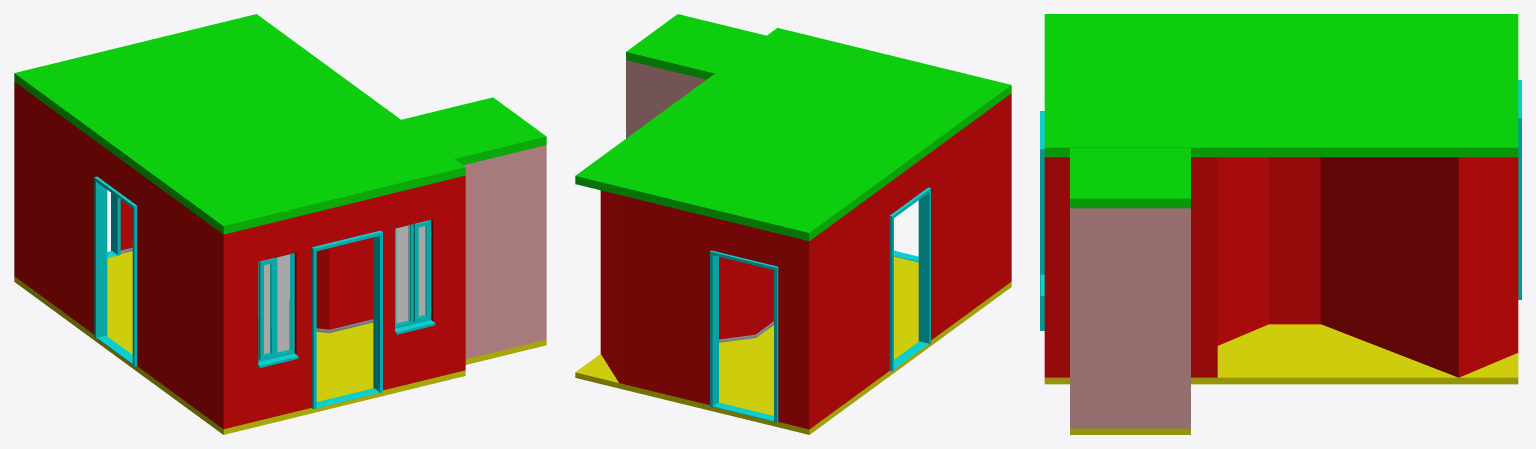
Rendered from FloorPlan515_physics.fbx.
The picture shows the model from 3 angles, left to right: view 1: azimuth 30°, elevation 25°; view 2: azimuth 150°, elevation 25°; view 3: azimuth 270°, elevation 25°; orthographic projection. The views are drawn at different scales.
Parts seen in each view (by area): view 1: FP515:Walls_1, FP515:Ceiling_1, FP515:Walls_2, FP515:Floor_1, FP515:Ceiling_2, FP515:DoorFrame_4, FP515:DoorFrame_1, FP515:WindowFrame_2, FP515:WindowFrame_1, FP515:WindowPane_2, FP515:WindowPane_1, FP515:DoorFrame_3 (+1 smaller); view 2: FP515:Walls_1, FP515:Ceiling_1, FP515:Floor_1, FP515:Ceiling_2, FP515:Walls_2, FP515:DoorFrame_4, FP515:DoorFrame_3; view 3: FP515:Walls_1, FP515:Ceiling_1, FP515:Walls_2, FP515:Floor_1, FP515:Ceiling_2, FP515:DoorFrame_1, FP515:DoorFrame_3, FP515:Floor_2.
Part boxes in pixels (box(x1,y1,x2,y2)): FP515:Walls_1: box(14, 82, 465, 429); FP515:Ceiling_1: box(14, 14, 465, 234); FP515:Walls_2: box(464, 145, 546, 359); FP515:Floor_1: box(14, 251, 465, 434); FP515:Ceiling_2: box(401, 97, 546, 165); FP515:DoorFrame_4: box(94, 176, 137, 366); FP515:DoorFrame_1: box(311, 230, 382, 409); FP515:WindowFrame_2: box(394, 220, 435, 334); FP515:WindowFrame_1: box(258, 253, 298, 367); FP515:WindowPane_2: box(396, 225, 424, 323); FP515:WindowPane_1: box(264, 254, 289, 353); FP515:DoorFrame_3: box(111, 193, 120, 255); FP515:Walls_1: box(600, 93, 1011, 429); FP515:Ceiling_1: box(575, 28, 1011, 241); FP515:Floor_1: box(575, 256, 1011, 434); FP515:Ceiling_2: box(626, 14, 766, 79); FP515:Walls_2: box(626, 60, 705, 138); FP515:DoorFrame_4: box(889, 187, 930, 371); FP515:DoorFrame_3: box(710, 250, 778, 422); FP515:Walls_1: box(1044, 157, 1518, 377); FP515:Ceiling_1: box(1044, 14, 1518, 157); FP515:Walls_2: box(1070, 208, 1190, 428); FP515:Floor_1: box(1044, 324, 1518, 384); FP515:Ceiling_2: box(1070, 148, 1190, 208); FP515:DoorFrame_1: box(1040, 111, 1044, 330); FP515:DoorFrame_3: box(1518, 80, 1521, 299); FP515:Floor_2: box(1070, 428, 1190, 434).
Size of the model in its own units: 453 by 268 by 495.
